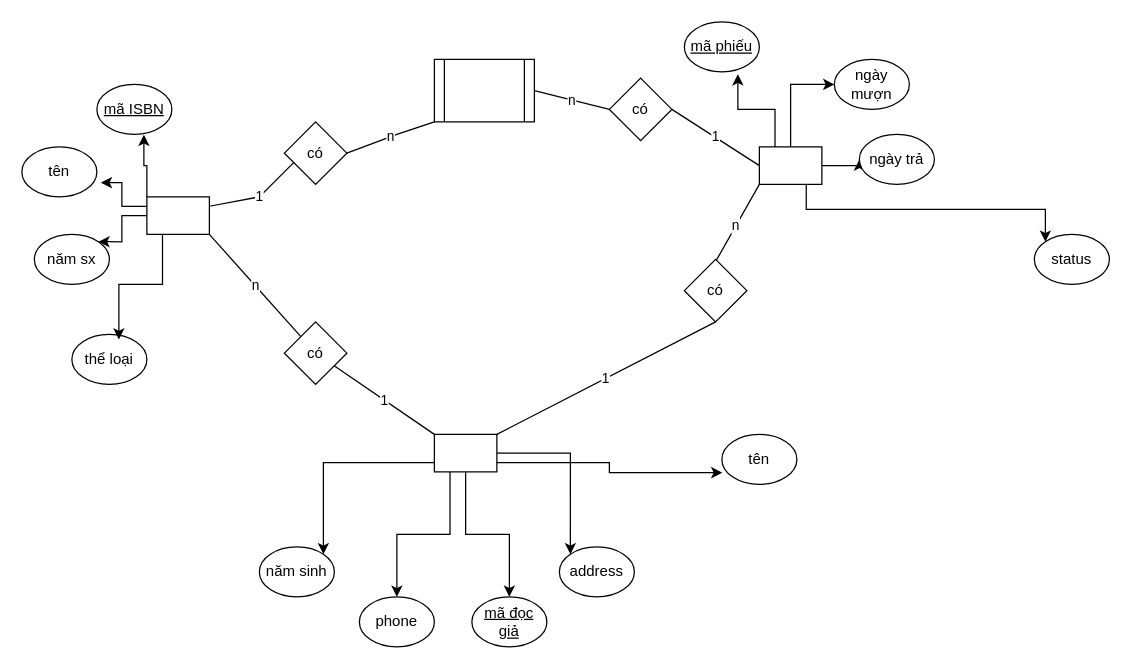
Image size: 1131x669. Some labels were removed from this diagram. Each missing label, with the box of its shape:
chi tiết phiếu mươn: (433, 58, 534, 122)
phiếu: (758, 146, 822, 184)
sách: (146, 196, 209, 234)
độc giả: (433, 433, 497, 472)
